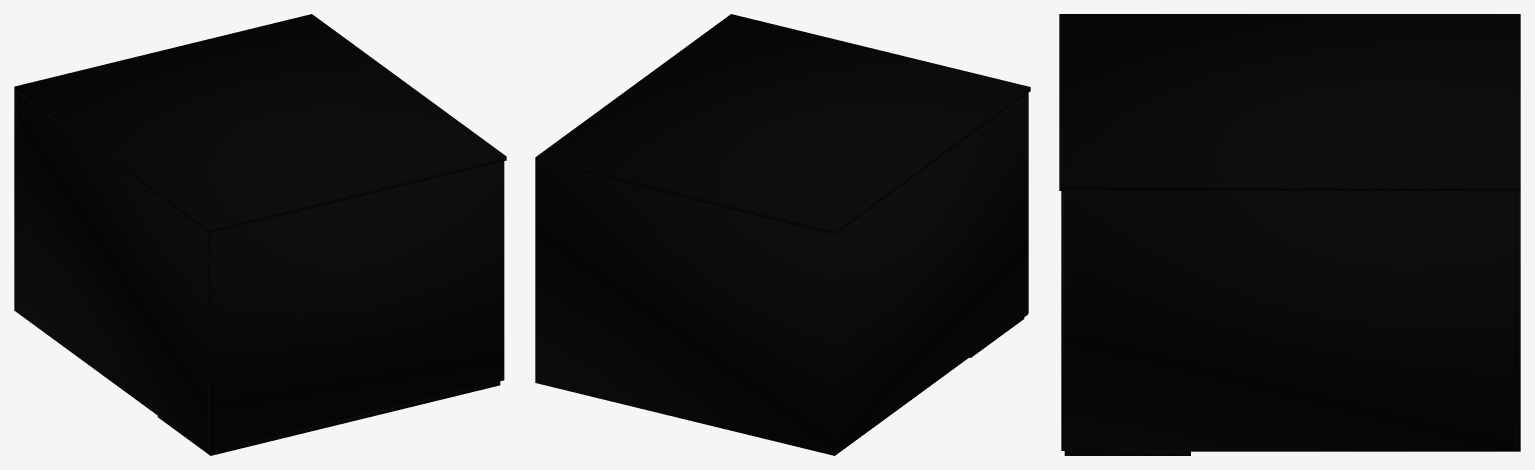
File: hall_palace.glb
The picture shows the model from 3 angles, left to right: view 1: azimuth 30°, elevation 25°; view 2: azimuth 150°, elevation 25°; view 3: azimuth 270°, elevation 25°; orthographic projection. The views are drawn at different scales.
Parts seen in each view (by area): view 1: palace_shell, palace_ceiling, palace_floor; view 2: palace_shell, palace_ceiling; view 3: palace_shell, palace_ceiling, palace_floor.
Boxes of the visible parts, <box> form: palace_shell: <box>14,91,504,452</box>; palace_ceiling: <box>14,14,506,232</box>; palace_floor: <box>157,381,500,455</box>; palace_shell: <box>535,93,1028,455</box>; palace_ceiling: <box>535,14,1030,234</box>; palace_shell: <box>1061,191,1520,451</box>; palace_ceiling: <box>1059,14,1520,190</box>; palace_floor: <box>1064,451,1190,455</box>.
Bounding box in the file's own units: 22.6 × 16.67 × 25.6.
6 materials, 6 textured.
